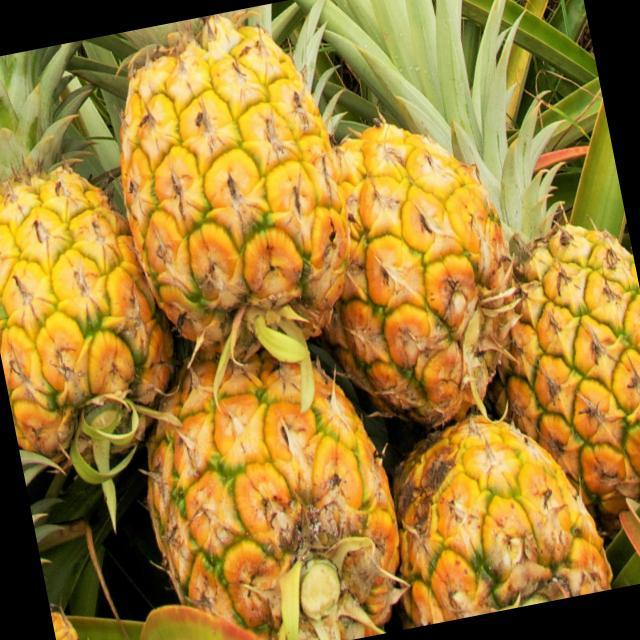PINEAPLE: (97, 0, 368, 367), (131, 311, 421, 640), (0, 39, 175, 480), (317, 89, 535, 431), (380, 392, 620, 627), (478, 136, 640, 457)
